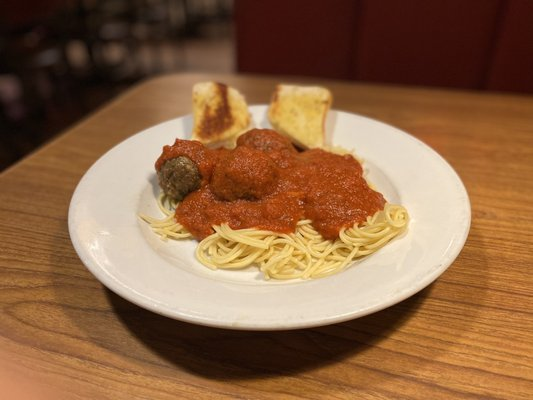curry: (14, 62, 533, 399)
salad: (190, 80, 251, 148)
